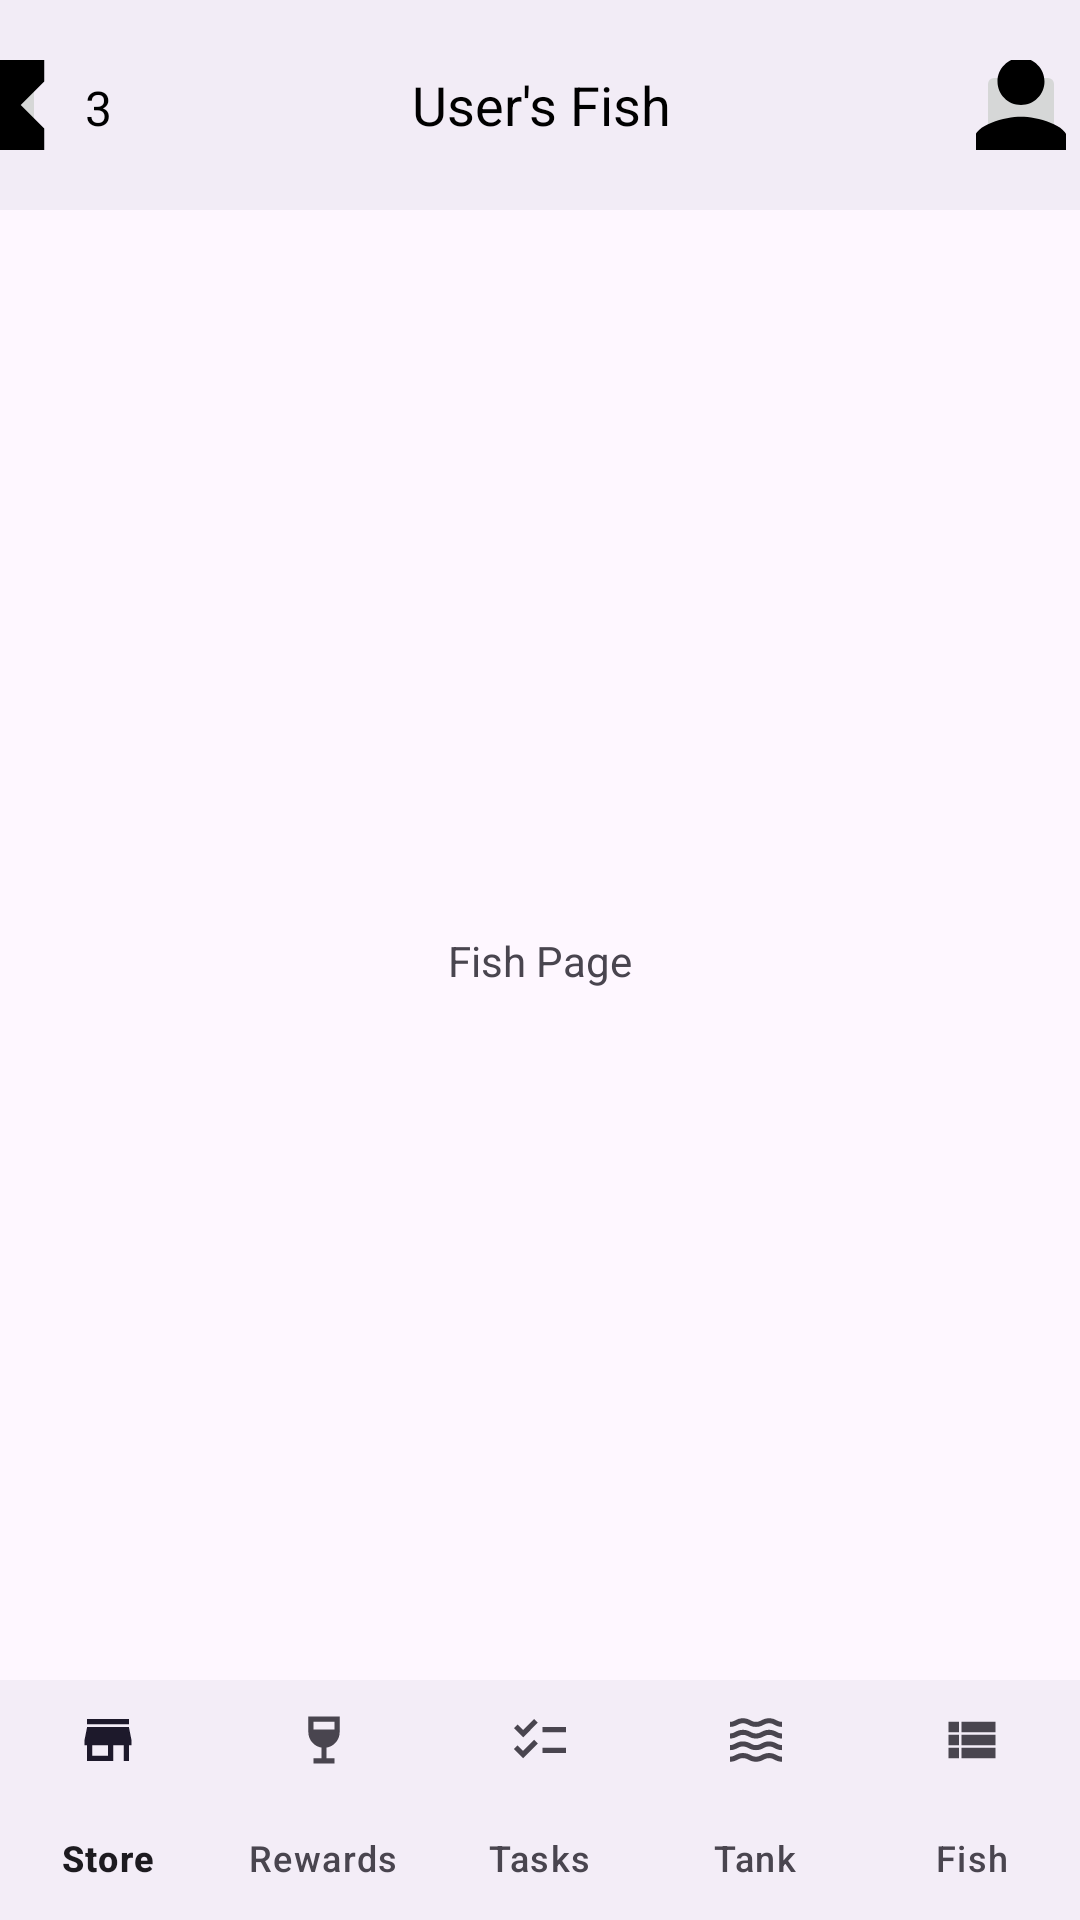

Where to tap for icons on this 1080×1920 app screen, as [x,y]:
profile: [1021,105]
